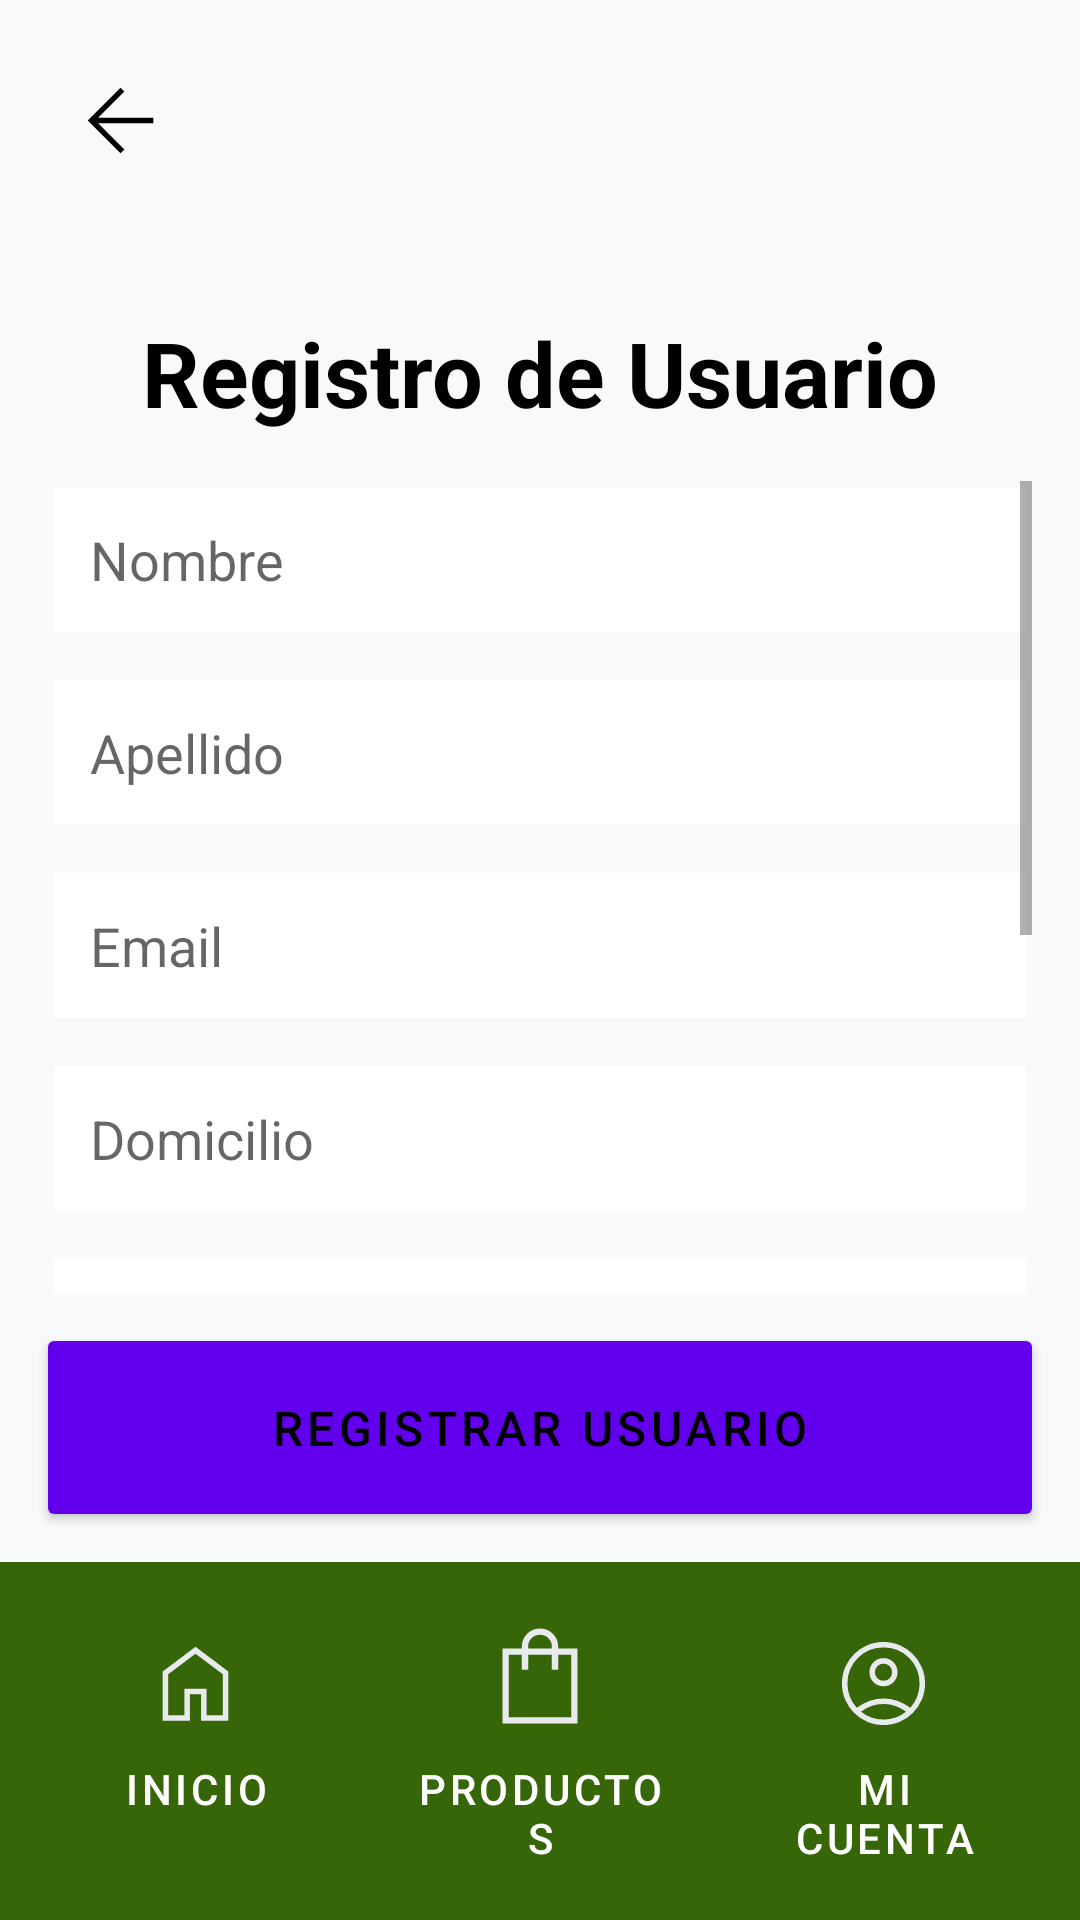

Locate icon controls on the screen. Image size 1080px x 1920px, boxes as [x1=x1, y1=y1, x2=x2, y2=y2].
Volver: [x1=88, y1=88, x2=154, y2=153]
